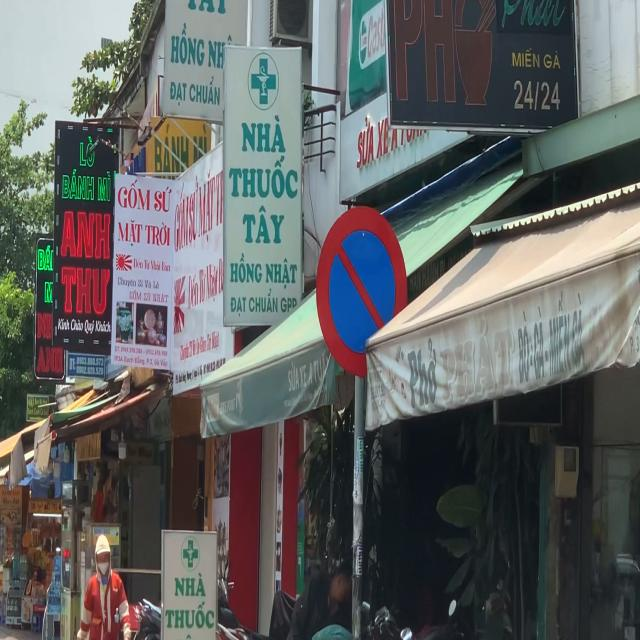Cam do: (314, 205, 409, 378)
